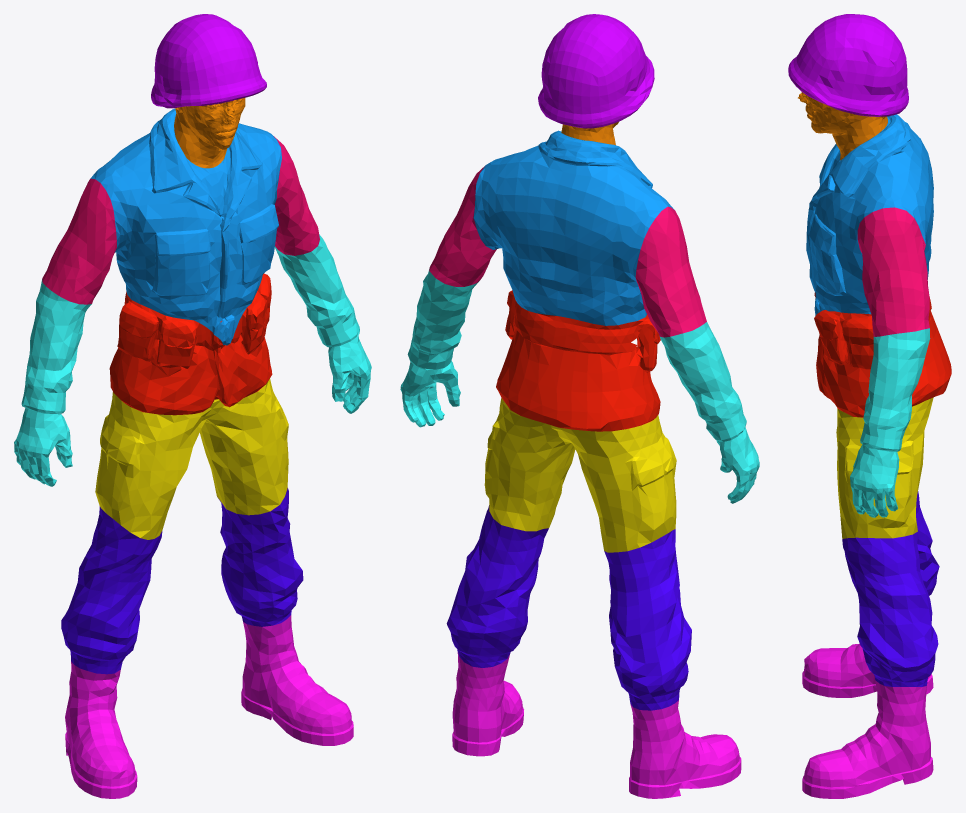
Rendered from Meshy_AI_green_toy_soldier_split.glb.
The picture shows the model from 3 angles, left to right: view 1: azimuth 30°, elevation 25°; view 2: azimuth 150°, elevation 25°; view 3: azimuth 270°, elevation 25°; orthographic projection. The views are drawn at different scales.
Parts seen in each view (by area): view 1: model_part1, model_part2, model_part3, model_part10, model_part7, model_part5, model_part16, model_part4, model_part0, model_part8, model_part6, model_part17 (+1 smaller); view 2: model_part1, model_part2, model_part3, model_part10, model_part16, model_part4, model_part0, model_part7, model_part8, model_part6, model_part5, model_part11 (+1 smaller); view 3: model_part1, model_part4, model_part16, model_part5, model_part8, model_part11, model_part3, model_part2, model_part0, model_part17, model_part10.
Boxes of the visible parts, <box> form: model_part1: <box>90,108,281,345</box>; model_part2: <box>95,379,288,539</box>; model_part3: <box>109,273,272,415</box>; model_part10: <box>61,506,162,674</box>; model_part7: <box>14,279,91,486</box>; model_part5: <box>241,615,353,745</box>; model_part16: <box>151,14,266,108</box>; model_part4: <box>218,488,303,626</box>; model_part0: <box>65,661,137,798</box>; model_part8: <box>274,234,371,413</box>; model_part6: <box>42,178,116,304</box>; model_part17: <box>174,98,245,168</box>; model_part1: <box>473,130,674,325</box>; model_part2: <box>484,398,676,552</box>; model_part3: <box>496,290,660,431</box>; model_part10: <box>604,529,691,710</box>; model_part16: <box>538,14,654,128</box>; model_part4: <box>446,505,548,667</box>; model_part0: <box>629,700,741,798</box>; model_part7: <box>660,322,759,503</box>; model_part8: <box>400,268,478,427</box>; model_part6: <box>635,206,706,337</box>; model_part5: <box>452,652,523,756</box>; model_part11: <box>429,166,496,286</box>; model_part1: <box>806,114,933,315</box>; model_part4: <box>842,531,938,686</box>; model_part16: <box>788,14,908,116</box>; model_part5: <box>802,680,933,798</box>; model_part8: <box>850,328,930,517</box>; model_part11: <box>857,207,929,336</box>; model_part3: <box>814,292,951,417</box>; model_part2: <box>836,397,933,538</box>; model_part0: <box>802,643,933,697</box>; model_part17: <box>798,92,887,160</box>; model_part10: <box>916,491,939,595</box>.
Size of the model in its own units: 0.06 by 0.12 by 0.0247.
